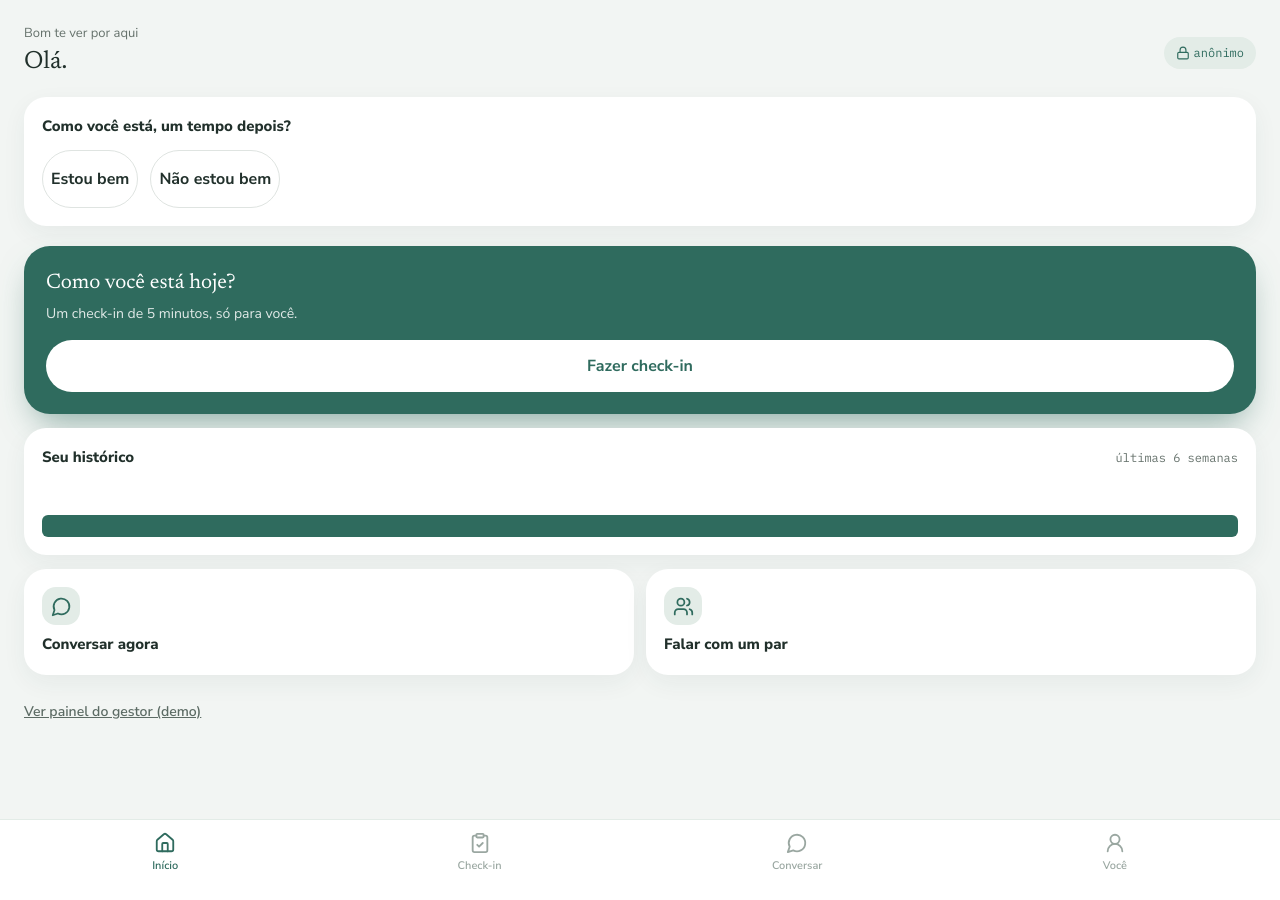
it: HomePage › hides the prompt after answering, and does not write to any network
Expected: the text "Como você está, um tempo depois?" is shown, 42,116 -> 291,136
Click the button "Estou bem".
click(90, 179)  # box 42,150 -> 138,208
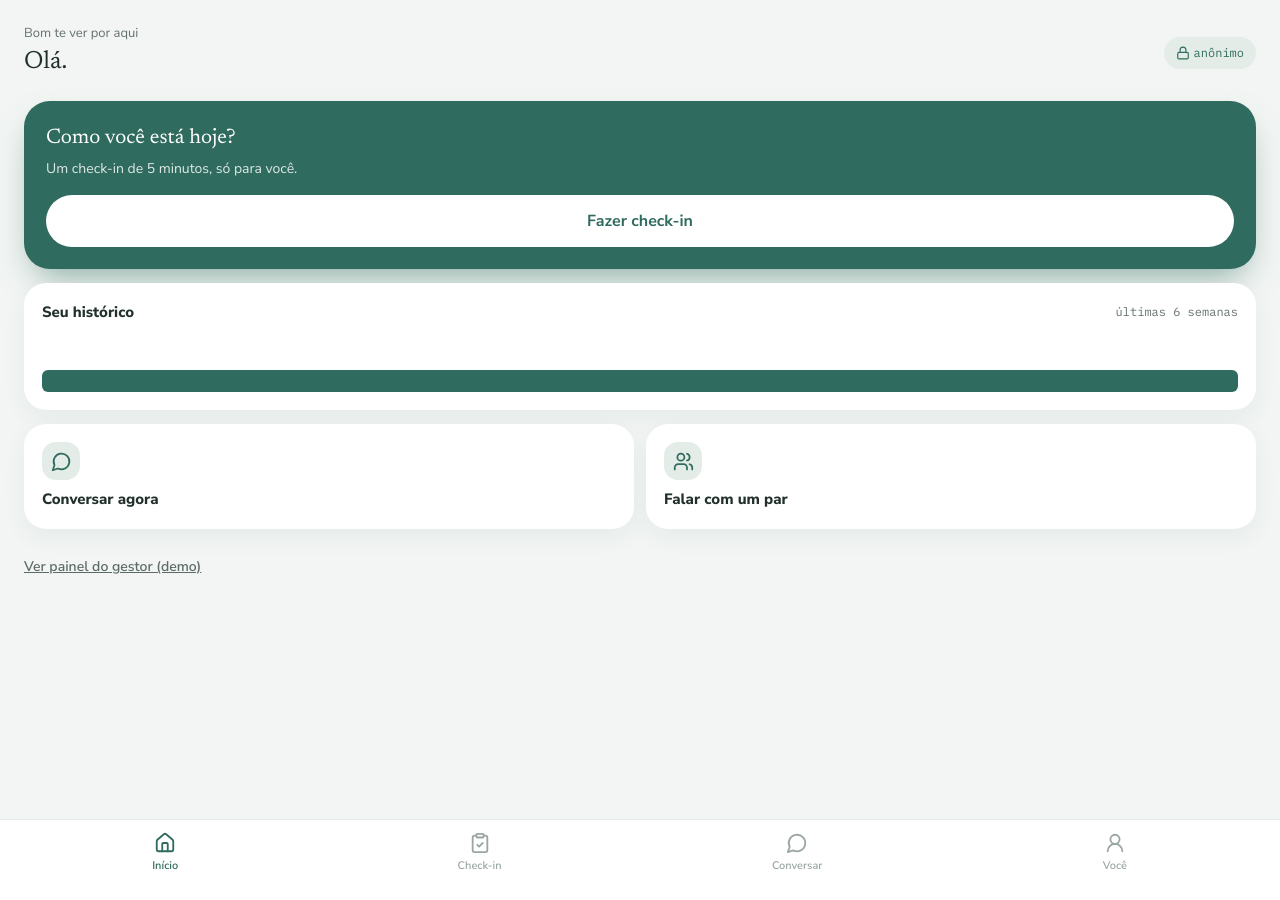
Result: the text "Como você está, um tempo depois?" is gone
